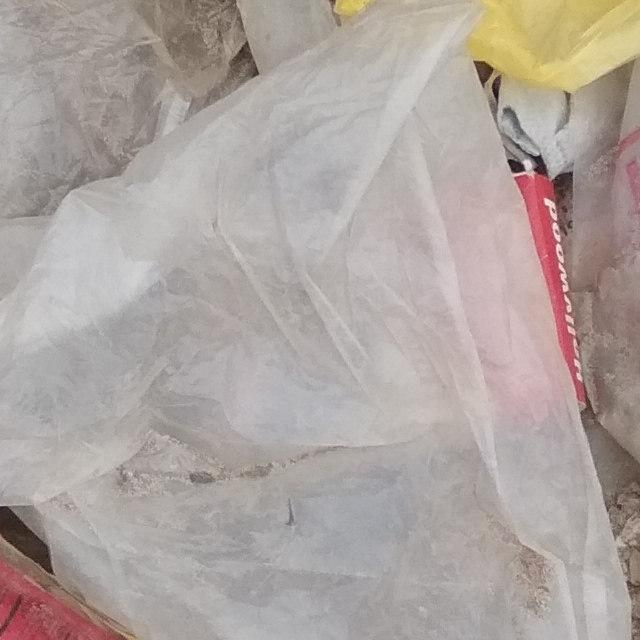plastic: (0, 280, 288, 640)
